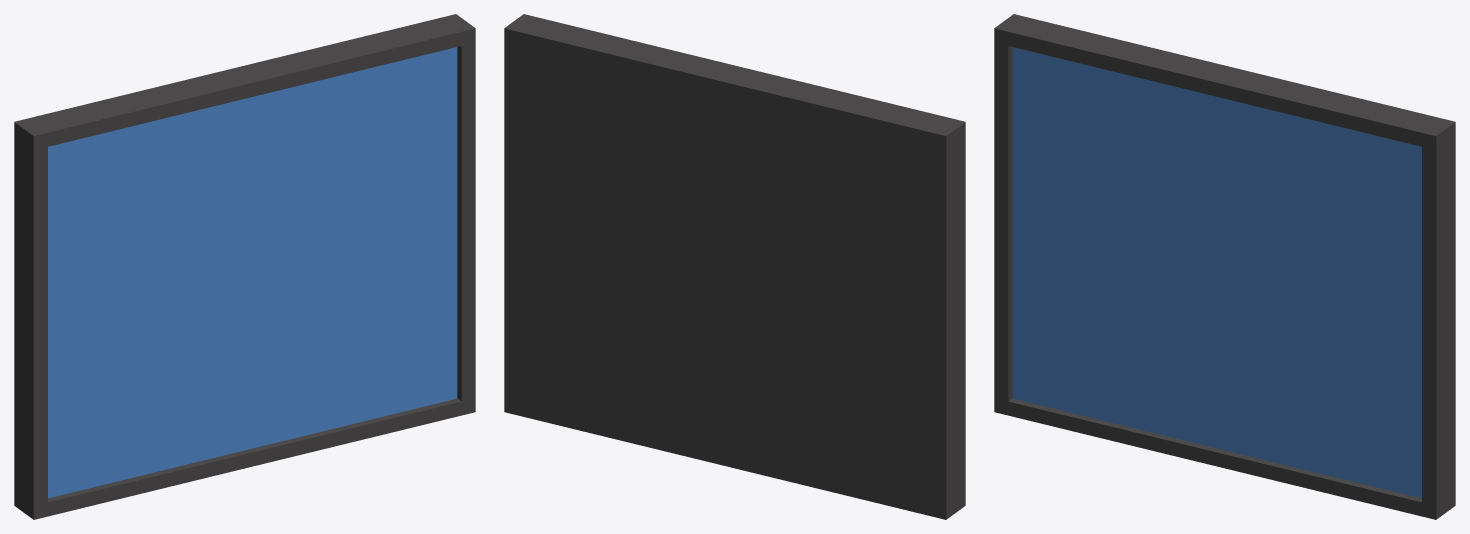
File: Shower..Mirror.fbx
3 views of the same model, side by side, from view 1: azimuth 30°, elevation 25°; view 2: azimuth 150°, elevation 25°; view 3: azimuth 330°, elevation 25° (orthographic).
Visible parts, largest first — view 1: Shower-Mirror; view 2: Shower-Mirror; view 3: Shower-Mirror.
Part boxes in pixels (left/top/right/bottom): Shower-Mirror: left=14, top=14, right=475, bottom=519; Shower-Mirror: left=504, top=14, right=965, bottom=519; Shower-Mirror: left=994, top=14, right=1455, bottom=519.
Size of the model in its own units: 133 by 110 by 10.22.
